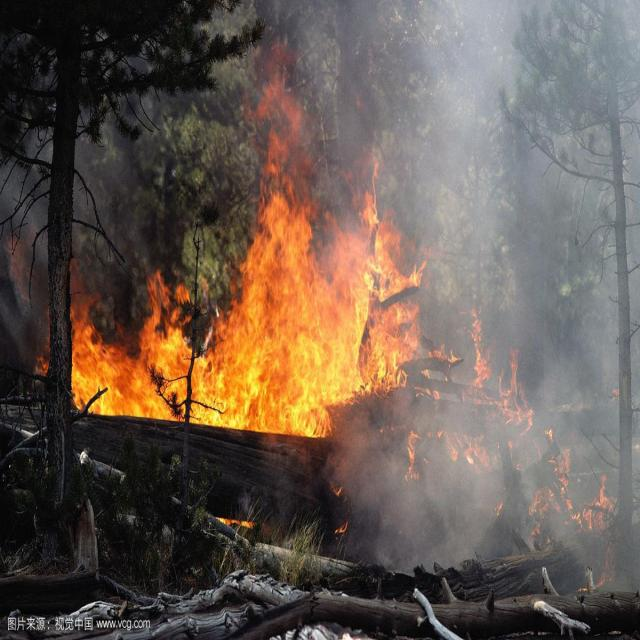fire: (59, 84, 420, 449), (306, 309, 626, 559)
